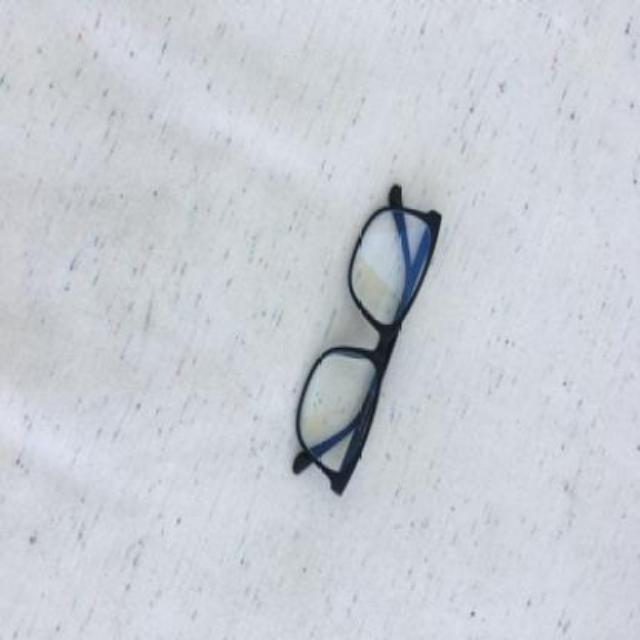glasses: (291, 185, 441, 500)
